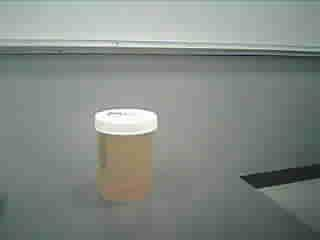Bottle B: (83, 99, 167, 208)
